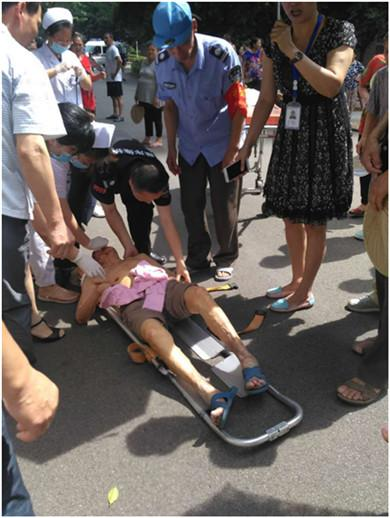10+: (2, 6, 379, 454)
down: (80, 242, 279, 440)
